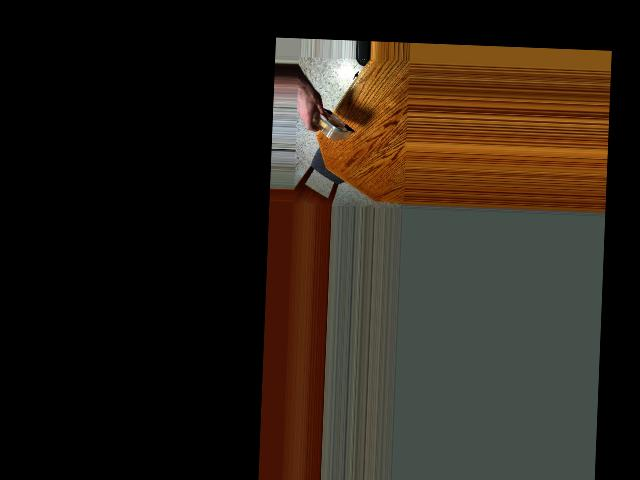cheese: (306, 92, 352, 146)
